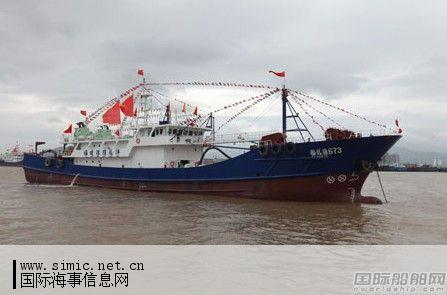otherboat: (18, 71, 400, 205)
